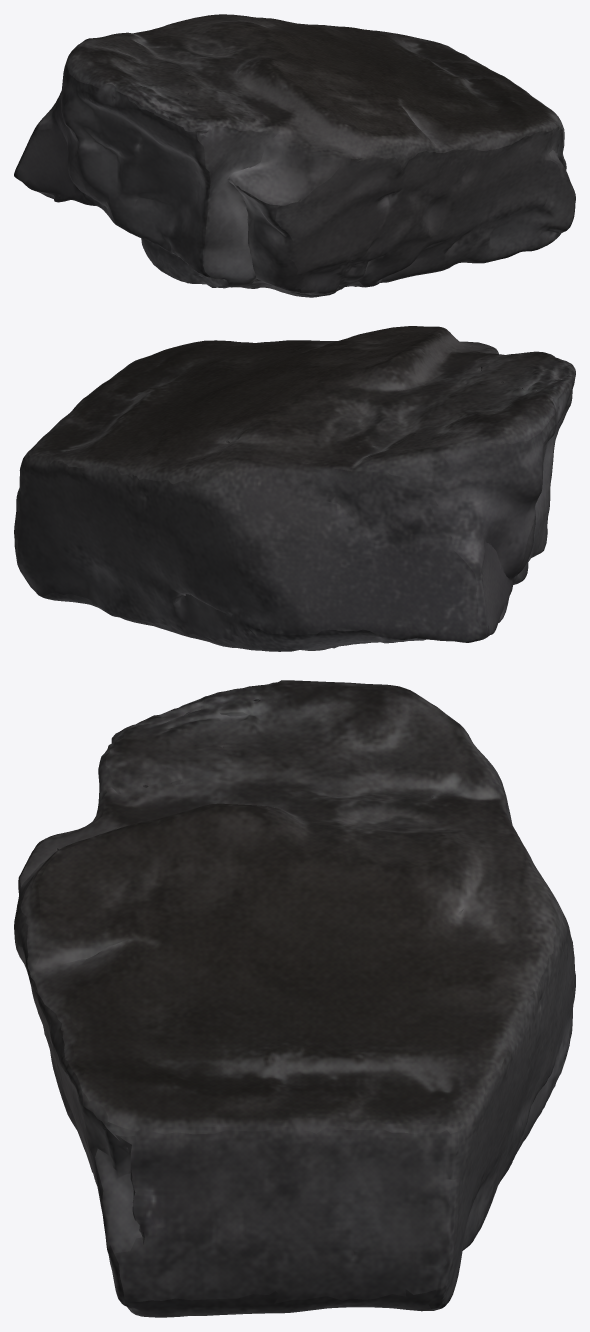
The picture shows the model from 3 angles, top to bottom: view 1: azimuth 30°, elevation 25°; view 2: azimuth 150°, elevation 25°; view 3: azimuth 270°, elevation 25°; orthographic projection. The views are drawn at different scales.
Parts seen in each view (by area): view 1: world; view 2: world; view 3: world.
Boxes of the visible parts, box(x1,y1,x2,y2) form: world: box(14, 14, 575, 297); world: box(14, 326, 575, 651); world: box(14, 680, 575, 1317).
Bounding box in the file's own units: 1.2 × 0.6019 × 0.8836.
Materials: 1 (1 with a texture image).
